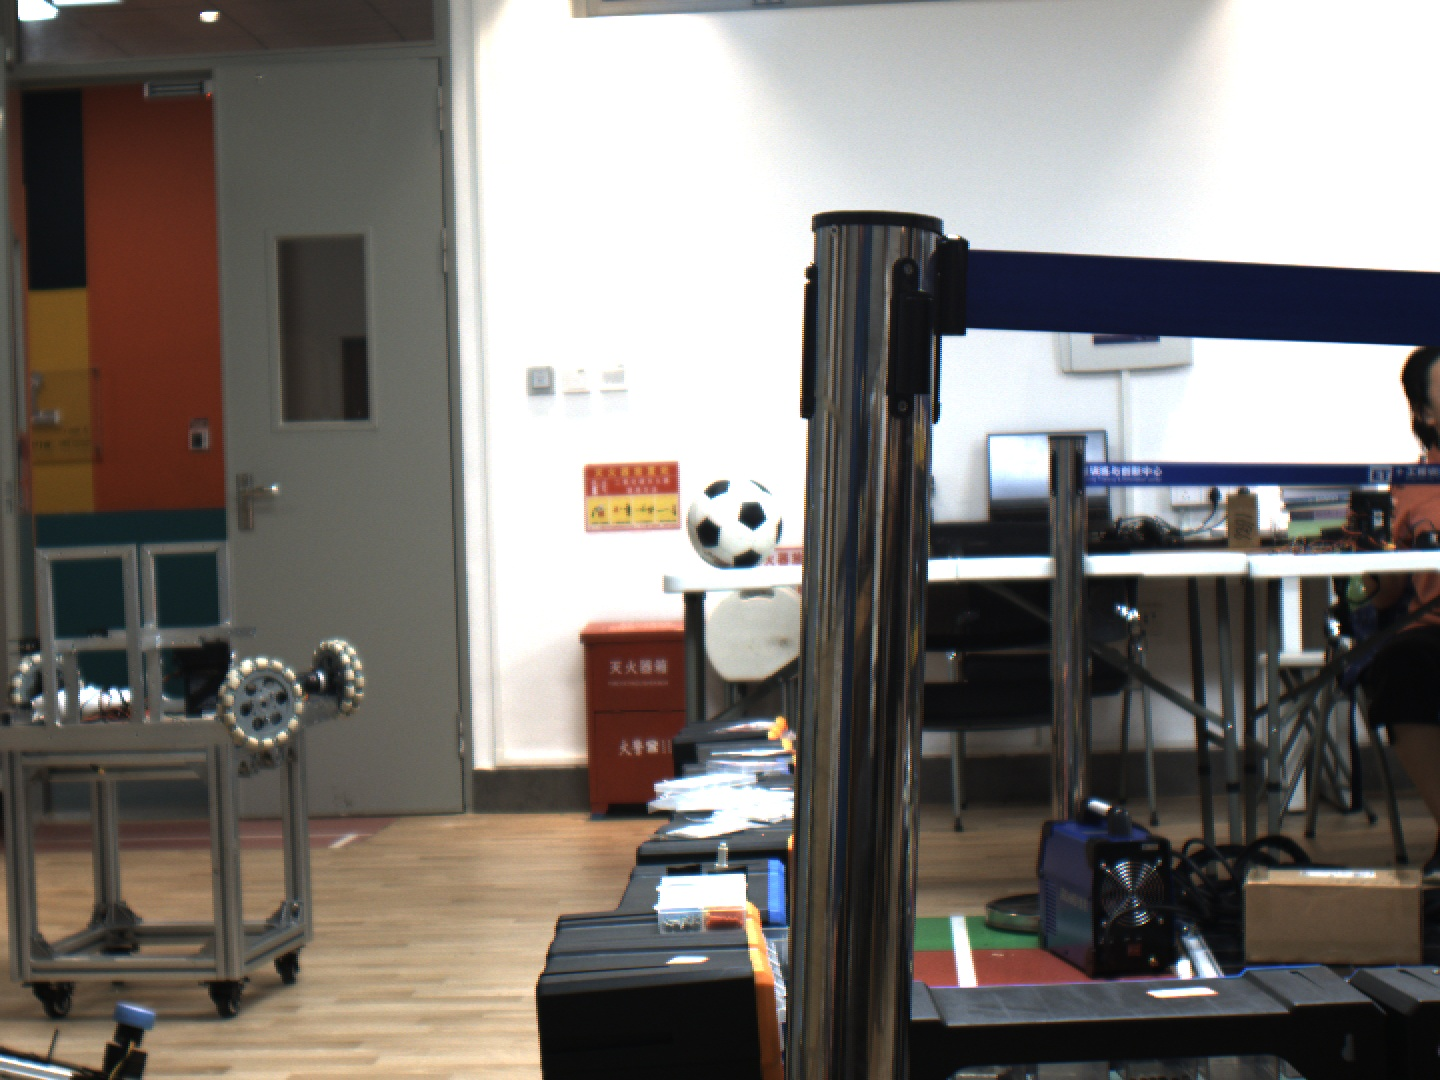ball: (680, 470, 794, 577)
